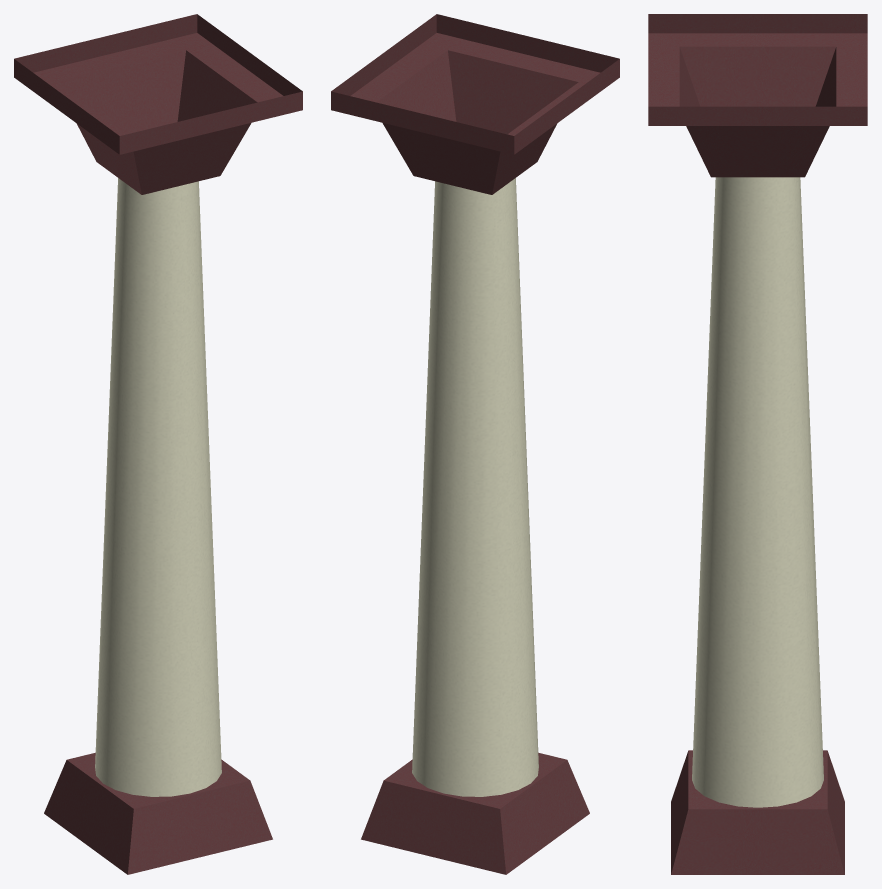
File: PR_ColumnSupport.fbx
3 renders of one model, left to right at view 1: azimuth 30°, elevation 25°; view 2: azimuth 150°, elevation 25°; view 3: azimuth 270°, elevation 25°, orthographic. The views are drawn at different scales.
Visible parts, largest first — view 1: SupportColumn; view 2: SupportColumn; view 3: SupportColumn.
Boxes of the visible parts, bbox=[...] form: SupportColumn: bbox=[14, 14, 302, 874]; SupportColumn: bbox=[331, 14, 619, 874]; SupportColumn: bbox=[648, 14, 867, 874].
Size of the model in its own units: 102 by 400 by 102.
